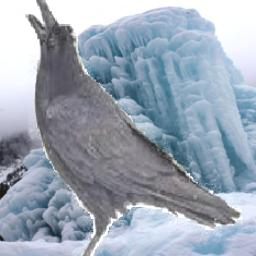Crow: (25, 0, 243, 256)
